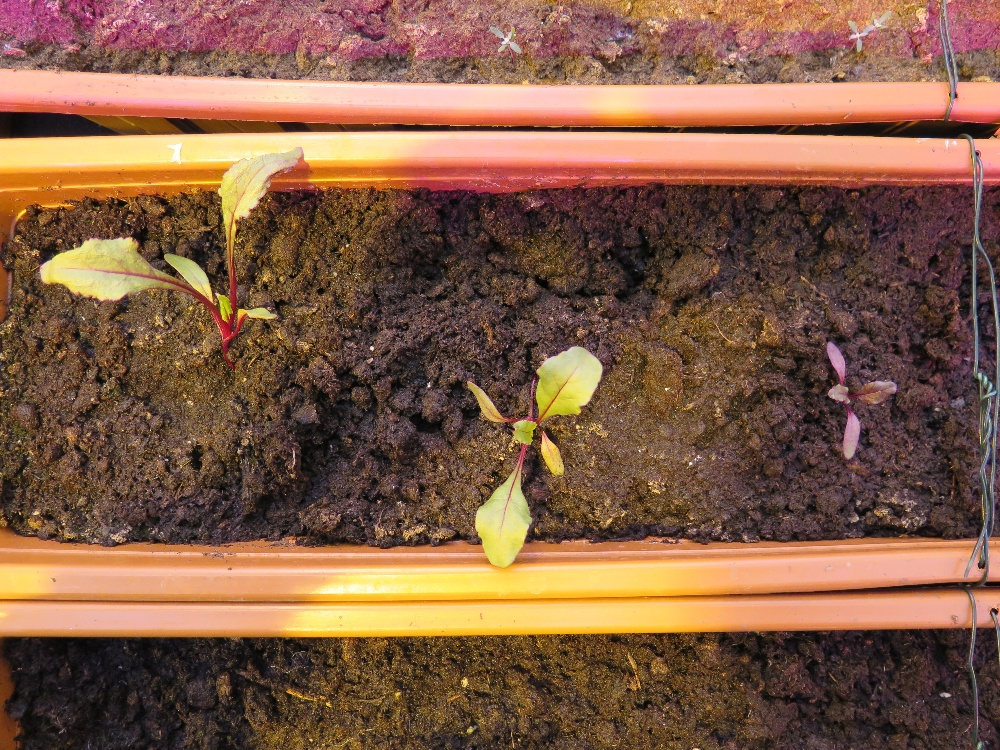crop: (41, 147, 306, 361), (441, 326, 620, 567), (447, 336, 617, 571), (799, 328, 902, 459)
weed: (488, 25, 523, 56)
